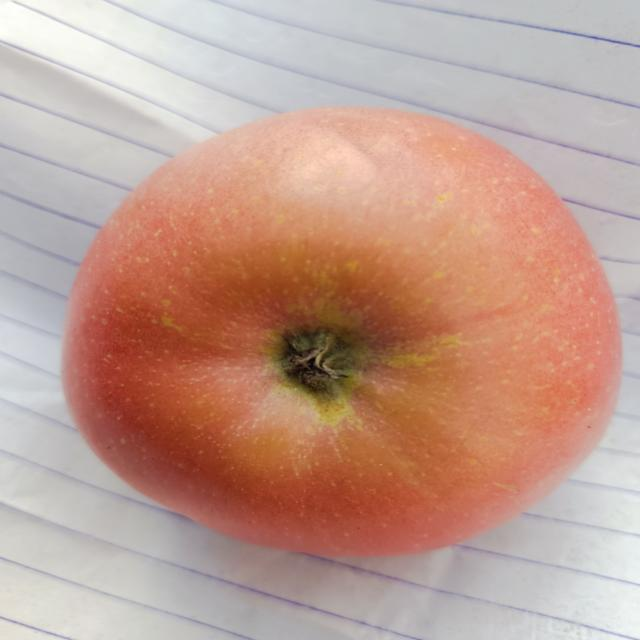Fresh Apple: (53, 95, 619, 558)
